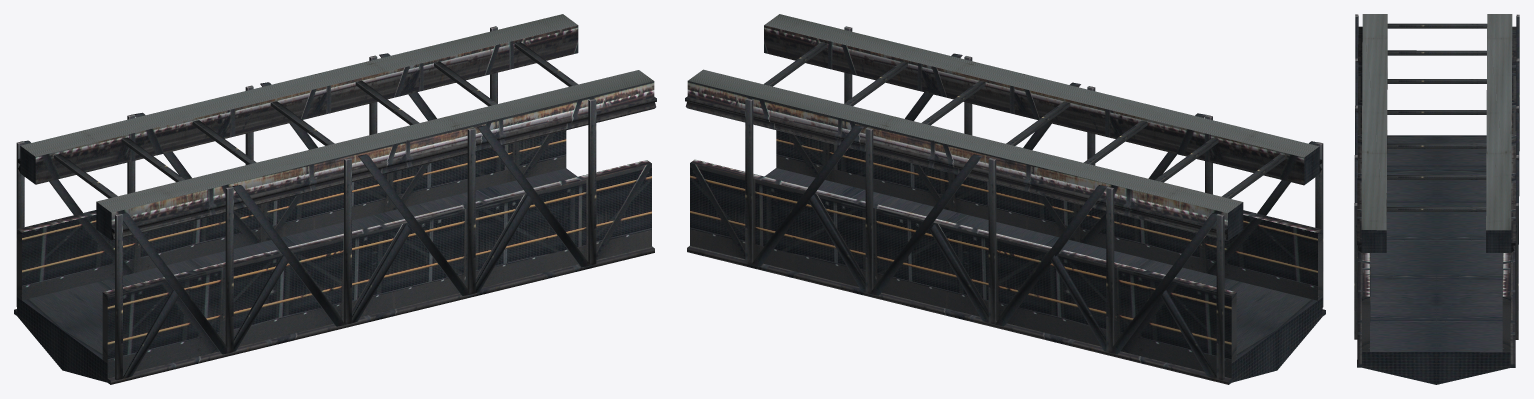
The model's file is industrial2.obj.
3 renders of one model, left to right at view 1: azimuth 30°, elevation 25°; view 2: azimuth 150°, elevation 25°; view 3: azimuth 270°, elevation 25°, orthographic. The views are drawn at different scales.
Parts seen in each view (by area): view 1: industrial2; view 2: industrial2; view 3: industrial2.
Part boxes in pixels (bbox=[...]): industrial2: bbox=[14, 14, 656, 384]; industrial2: bbox=[685, 14, 1325, 384]; industrial2: bbox=[1354, 14, 1519, 384].
Size of the model in its own units: 246 by 81.87 by 78.76.
1 material, 1 textured.
